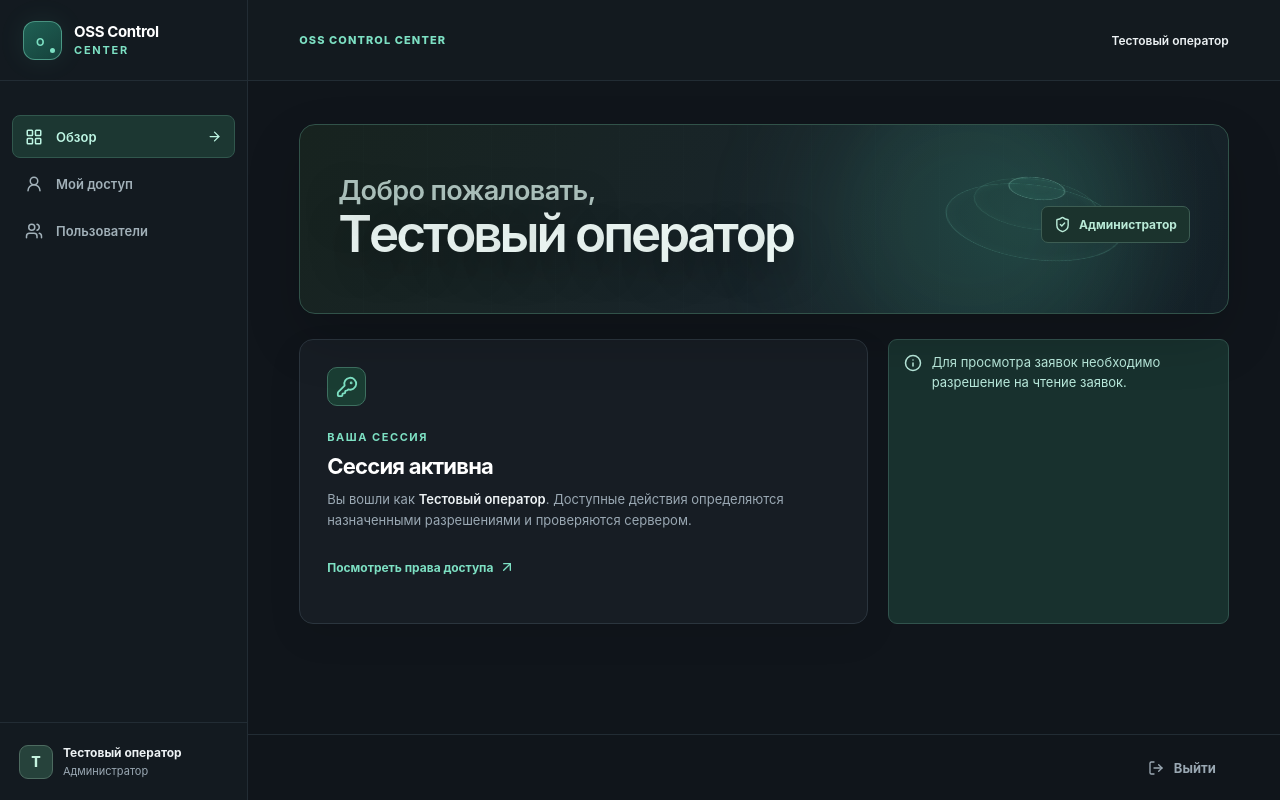
session shell › uses individual permissions even for a restricted admin account
Expected: the text "Для просмотра заявок необходимо разрешение на чтение заявок." is shown, x1=932 y1=354 x2=1160 y2=390
Expected: the heading named "Добро пожаловать, Тестовый оператор" is shown, x1=338 y1=178 x2=793 y2=260
Step 1. Click the link "Мой доступ" → point(79, 184), box x1=25 y1=174 x2=133 y2=192
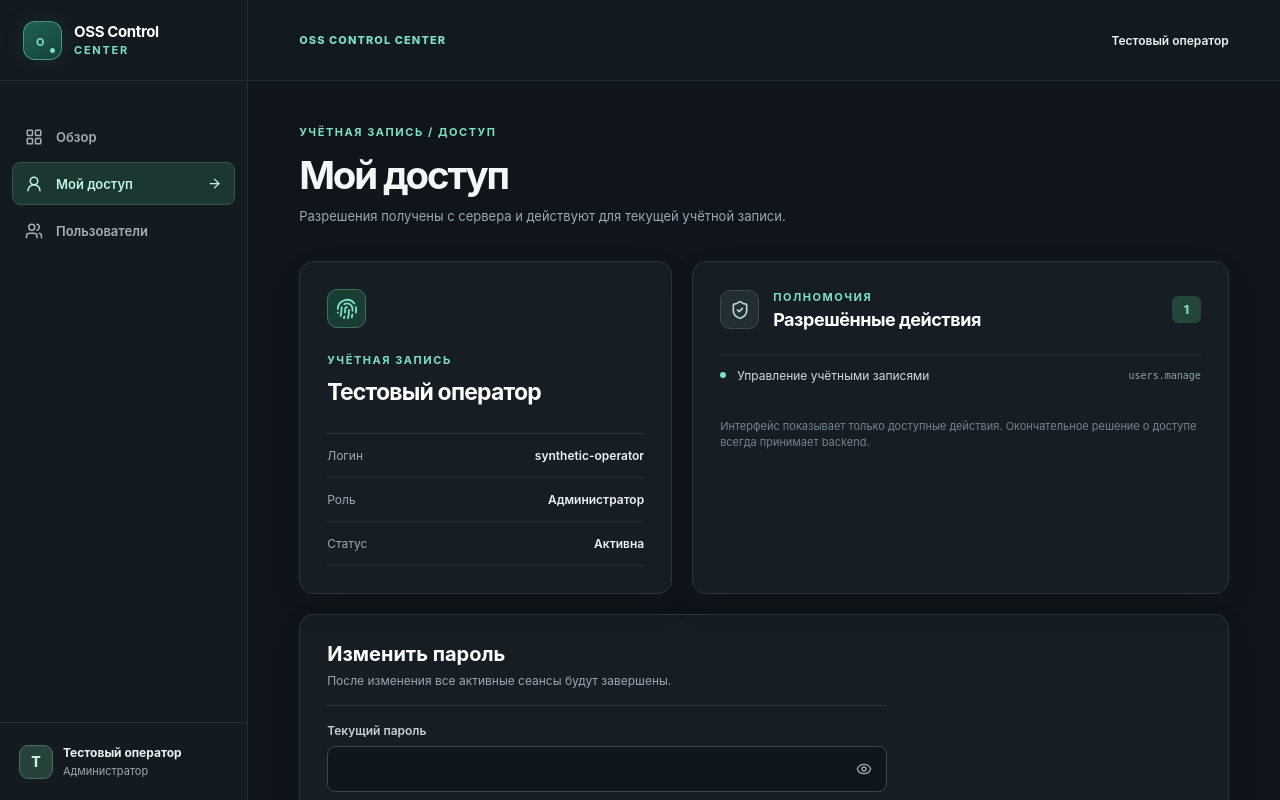
Result: the text "Управление учётными записями" is shown at x1=737 y1=368 x2=929 y2=383
